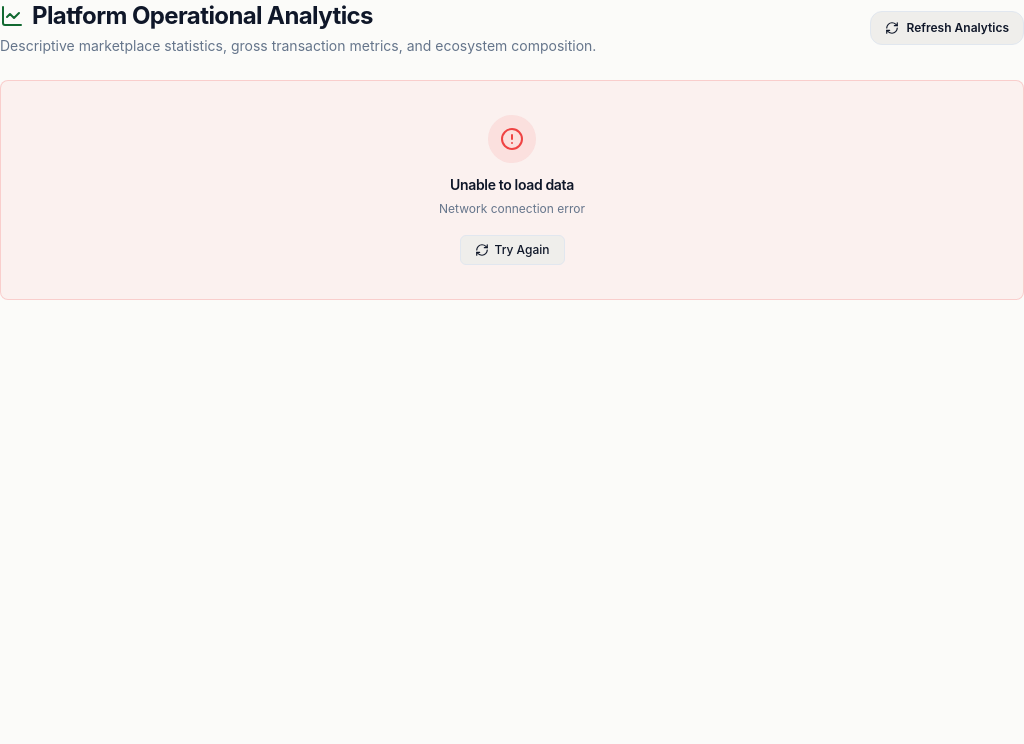
Scenario: AdminPlatformAnalyticsPage › renders error state with retry on failure
Expected: the text "Network connection error" is shown, [439,199,585,219]
Click the button "Try Again": (512, 250) [460,235,564,265]
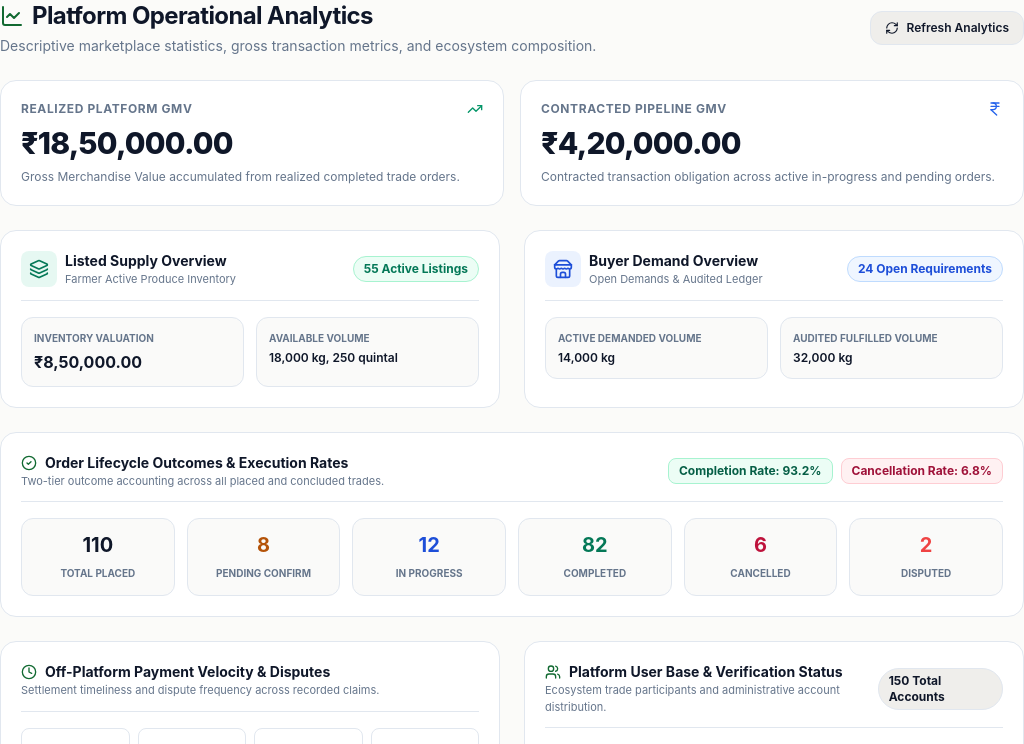
Expected: the text "₹18,50,000.00" is shown, [21,125,233,161]
